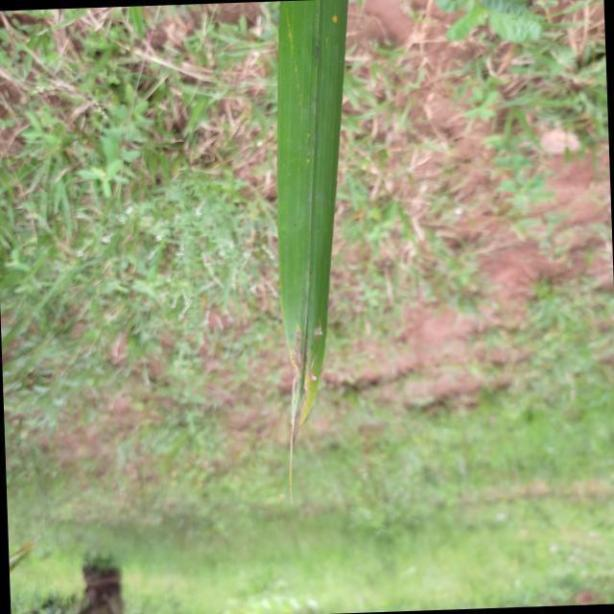Kalium: (274, 0, 348, 519)
